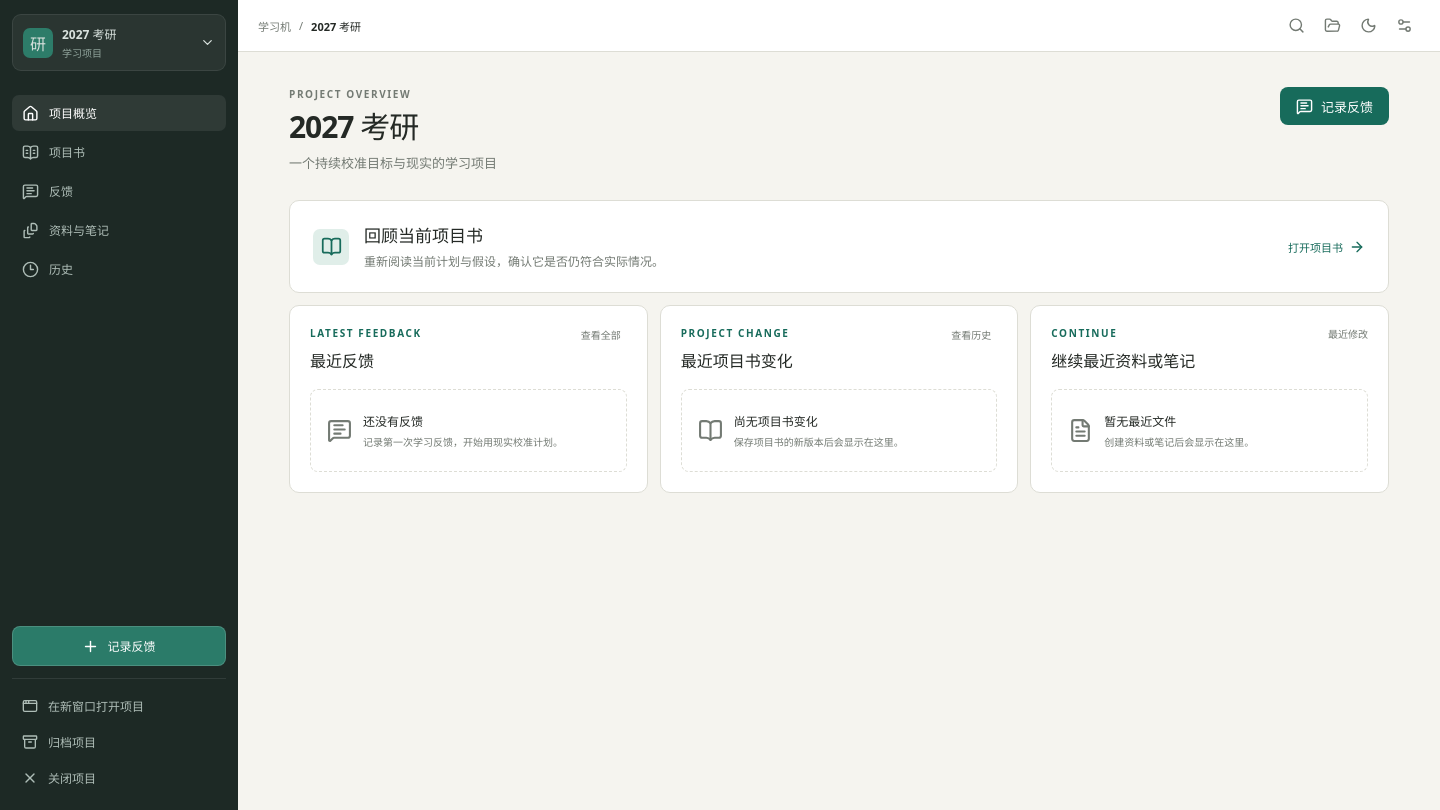
Learning Machine workspace › keeps feedback one click away throughout the project workspace
The width and height of the screenshot is (1440, 810).
Click the 2nd button "记录反馈". click: (119, 646)
box: [12,626,226,666]
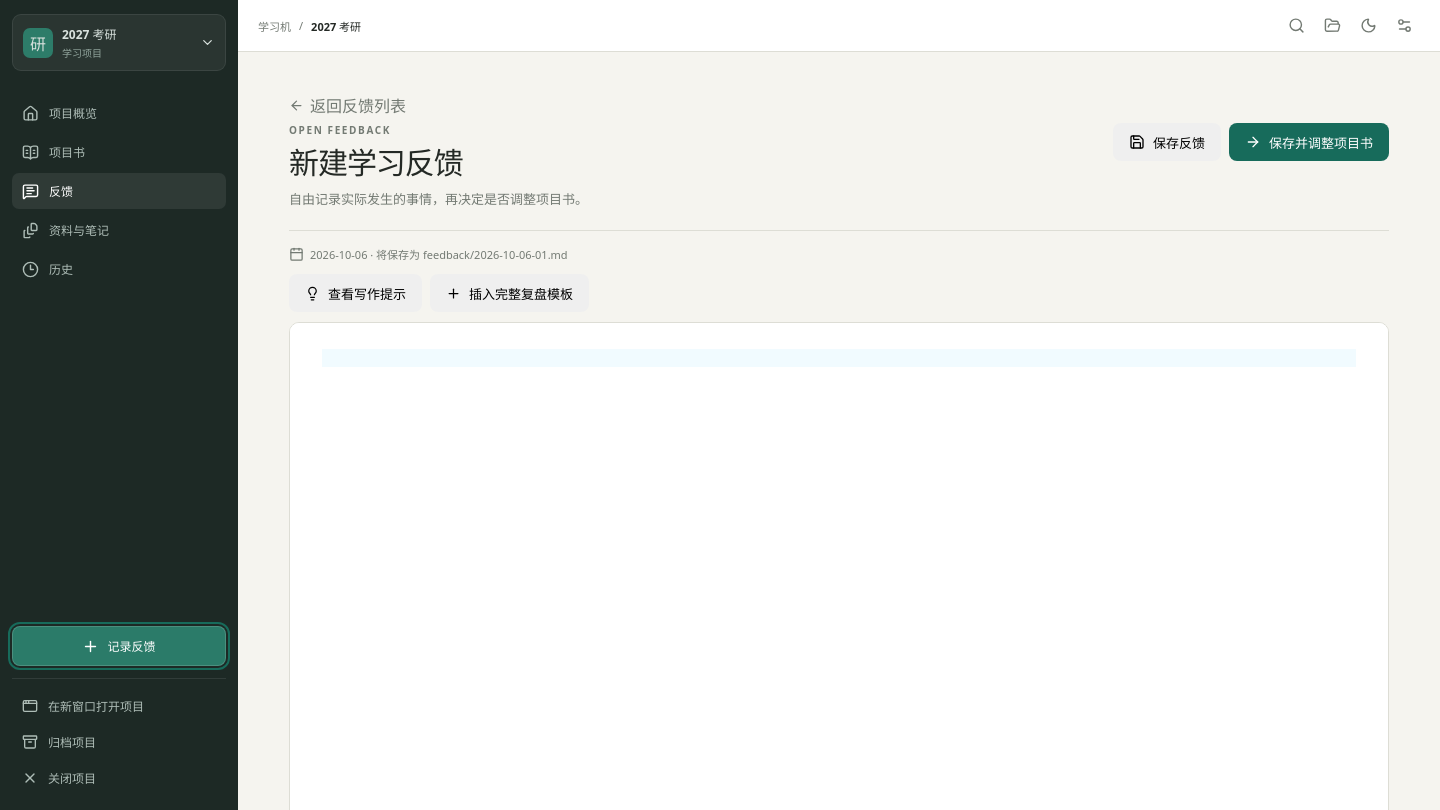
Now the heading "新建学习反馈" is shown, box [289,142,463,183]
